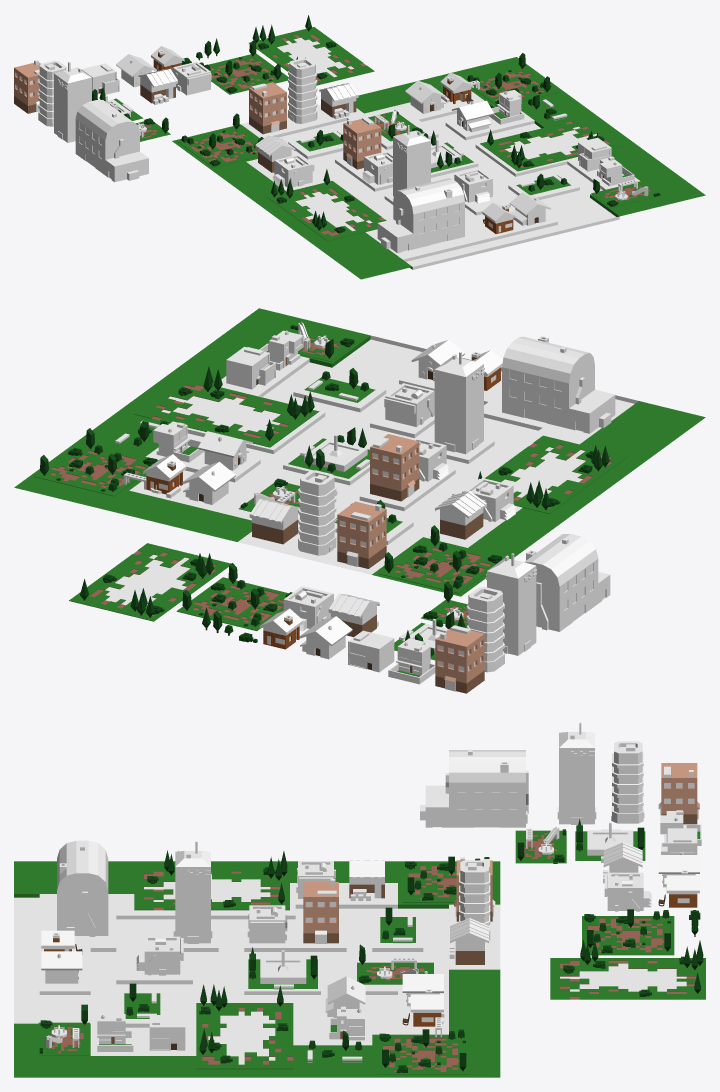
The model's file is city.gltf.
The picture shows the model from 3 angles, top to bottom: view 1: azimuth 30°, elevation 25°; view 2: azimuth 150°, elevation 25°; view 3: azimuth 270°, elevation 25°; orthographic projection. The views are drawn at different scales.
Parts seen in each view (by area): view 1: suelo, Plane.032, Plane.069, Plane.005, Plane.048, Plane.076, Plane.008, Plane.061, Plane.068, Plane.030, Plane.002, Plane.006 (+30 smaller); view 2: suelo, Plane.032, Plane.048, Plane.076, Plane.005, Plane.069, Plane.030, Plane.008, Plane.002, Plane.061, Plane.068, Plane.006 (+30 smaller); view 3: suelo, Plane.069, Plane.048, Plane.076, Plane.005, Plane.032, Plane.002, Plane.061, Plane.068, Plane.030, Plane.074, Plane.008 (+30 smaller).
Boxes of the visible parts, left/top/right/bottom form: suelo: left=172, top=57, right=705, bottom=279; Plane.032: left=377, top=178, right=464, bottom=253; Plane.069: left=75, top=100, right=148, bottom=182; Plane.005: left=267, top=169, right=386, bottom=241; Plane.048: left=480, top=118, right=622, bottom=171; Plane.076: left=249, top=15, right=374, bottom=85; Plane.008: left=177, top=113, right=263, bottom=167; Plane.061: left=199, top=40, right=288, bottom=94; Plane.068: left=54, top=62, right=91, bottom=142; Plane.030: left=393, top=125, right=430, bottom=196; Plane.002: left=466, top=53, right=560, bottom=106; Plane.006: left=288, top=58, right=317, bottom=123; suelo: left=14, top=308, right=705, bottom=596; Plane.032: left=502, top=336, right=615, bottom=433; Plane.048: left=134, top=366, right=319, bottom=447; Plane.076: left=69, top=543, right=230, bottom=621; Plane.005: left=478, top=435, right=627, bottom=513; Plane.069: left=524, top=534, right=610, bottom=631; Plane.030: left=433, top=351, right=484, bottom=454; Plane.008: left=378, top=525, right=503, bottom=593; Plane.002: left=34, top=428, right=157, bottom=496; Plane.061: left=176, top=563, right=292, bottom=630; Plane.068: left=486, top=553, right=536, bottom=655; Plane.006: left=298, top=470, right=336, bottom=555; suelo: left=14, top=861, right=500, bottom=1077; Plane.069: left=420, top=749, right=528, bottom=827; Plane.048: left=196, top=984, right=293, bottom=1069; Plane.076: left=550, top=940, right=705, bottom=999; Plane.005: left=134, top=850, right=289, bottom=910; Plane.032: left=57, top=840, right=108, bottom=936; Plane.002: left=377, top=1029, right=469, bottom=1074; Plane.061: left=582, top=909, right=674, bottom=955; Plane.068: left=557, top=722, right=596, bottom=824; Plane.030: left=173, top=841, right=212, bottom=943; Plane.074: left=611, top=741, right=644, bottom=823; Plane.008: left=403, top=856, right=494, bottom=902.
Size of the model in its own units: 25 by 4.23 by 27.04.
